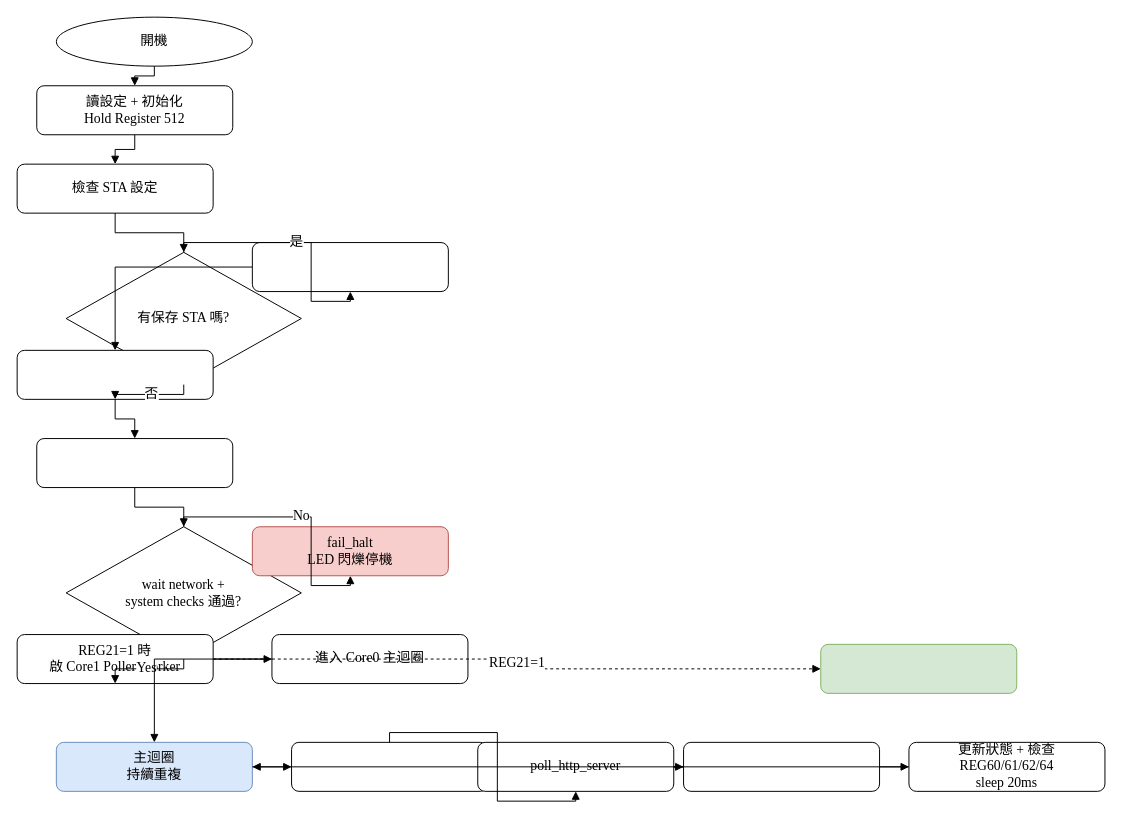
Some shapes in this 1122 by 826 pixel diagram are drawn without their labels. Each missing label, with the centre of its shape:
Core1 背景執行緒 poller_tick + sleep 5ms: point 918,668
poll_cmd_server: point 389,766
poll_modbus_tcp_server (事件式非阻塞): point 781,766
啟動服務 HTTP + CMD + Modbus + mDNS: point 134,463
嘗試連接 STA timeout 6s: point 349,267
讀 REG20 決策 AP STA失敗且 REG20=0 時強制開 AP: point 114,374
